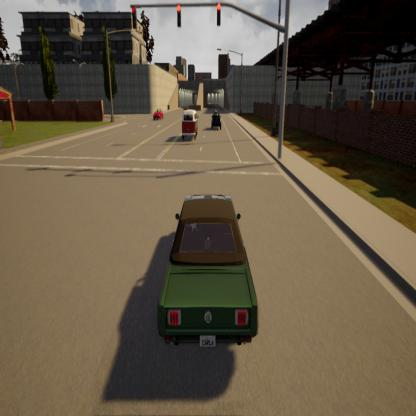Cars: (159, 194, 258, 351), (181, 110, 199, 141), (212, 110, 222, 133), (152, 107, 163, 120)
